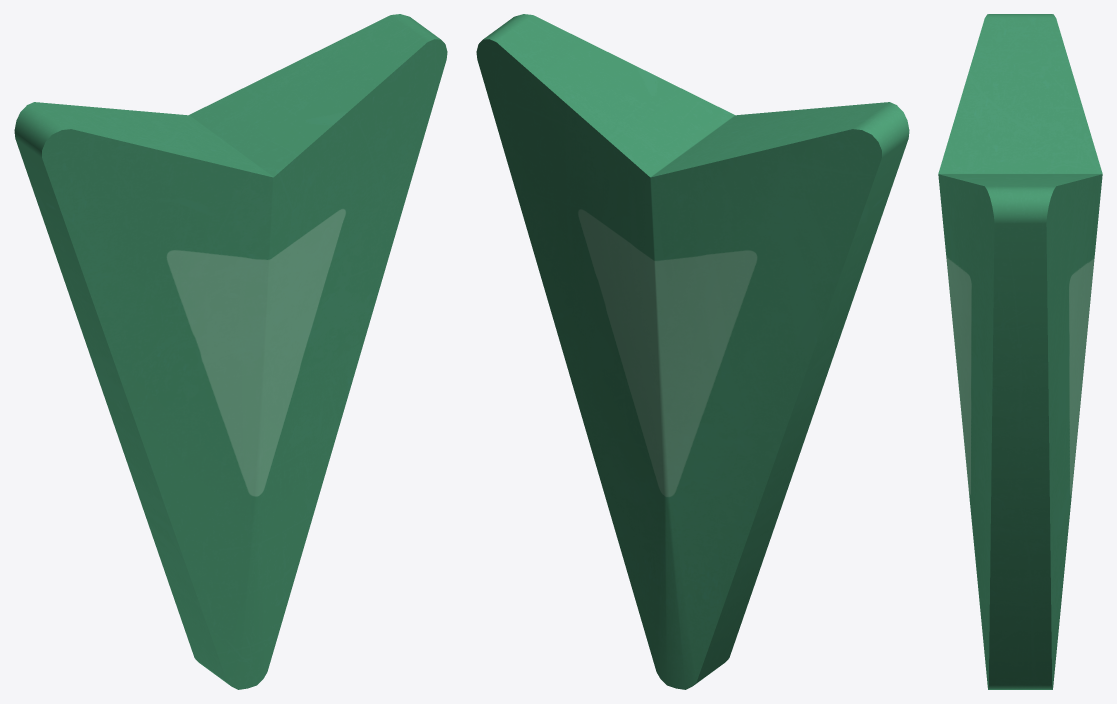
The picture shows the model from 3 angles, left to right: view 1: azimuth 30°, elevation 25°; view 2: azimuth 150°, elevation 25°; view 3: azimuth 270°, elevation 25°; orthographic projection. The views are drawn at different scales.
Parts seen in each view (by area): view 1: Arrow2_Arrow2_0; view 2: Arrow2_Arrow2_0; view 3: Arrow2_Arrow2_0.
Part boxes in pixels (x1=…): Arrow2_Arrow2_0: x1=14, y1=14, x2=447, y2=689; Arrow2_Arrow2_0: x1=476, y1=14, x2=909, y2=689; Arrow2_Arrow2_0: x1=938, y1=14, x2=1102, y2=689.
Size of the model in its own units: 0.1618 by 0.2303 by 0.0588.
Materials: 1 (1 with a texture image).
